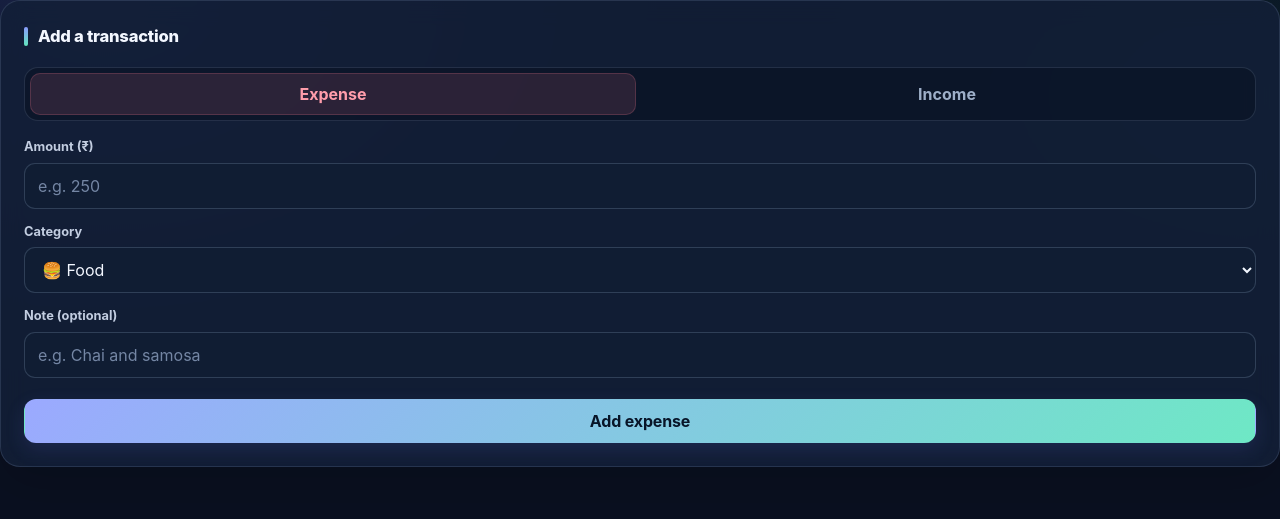
Test: AddTransaction › warns when the expense is bigger than the balance
Type "500" into the number field labelled "Amount (₹)" at (640, 186), box [24,163,1256,209]
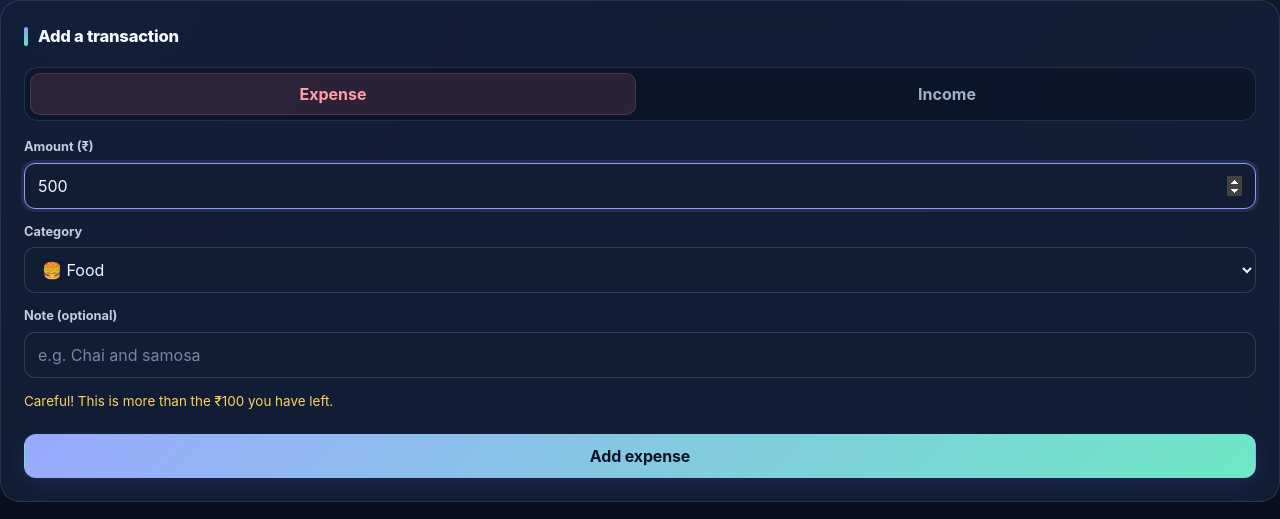
Expected: the message shows "more than", [24,393,215,409]
